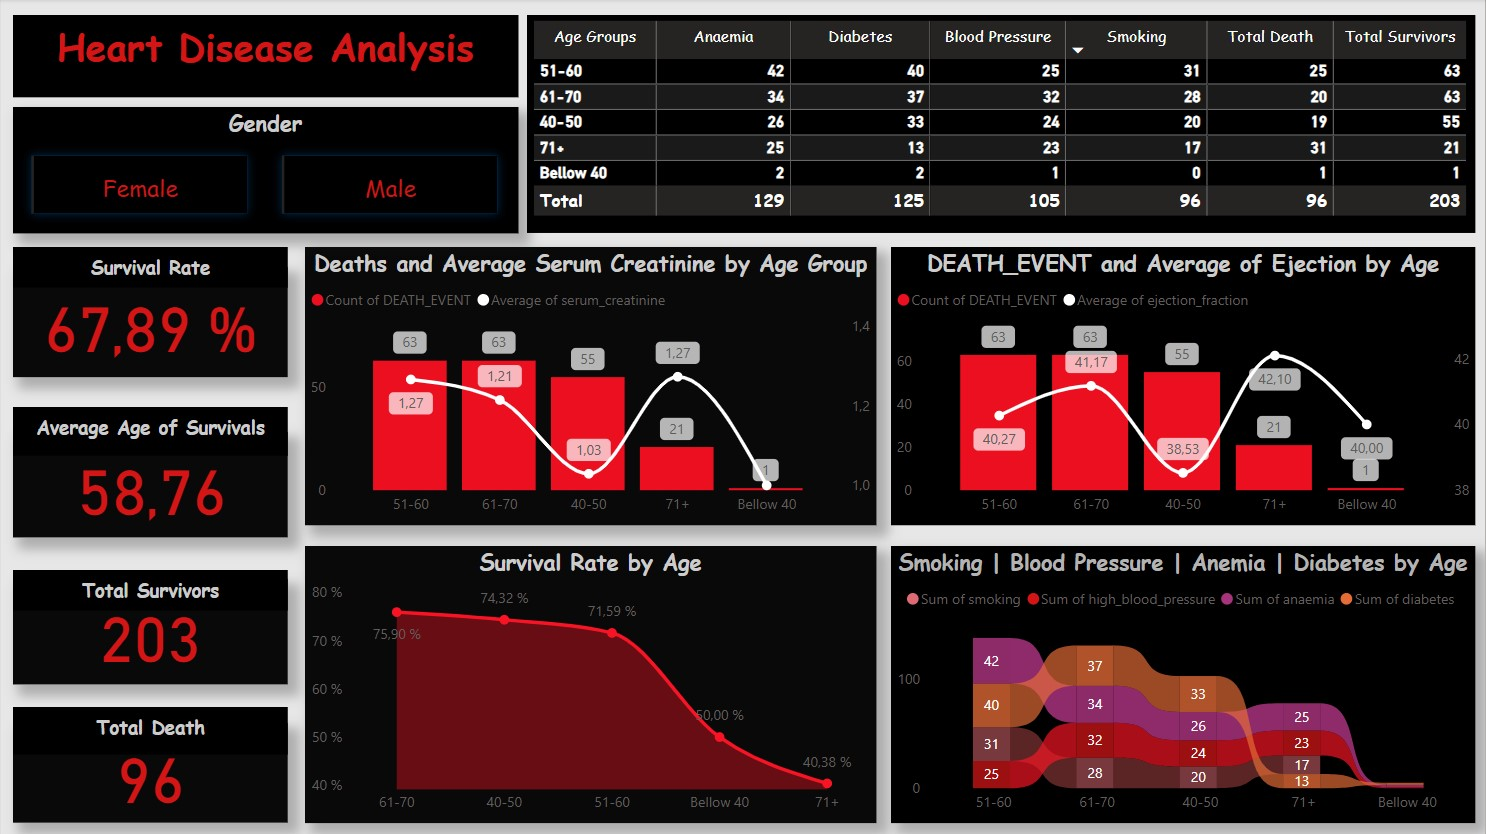

Layout of this report page (visuals, bound fields, positions):
{"tool":"powerbi","page":{"name":"Page 1","canvas":[1280,720],"ordinal":0},"visuals":[{"type":"textbox","box":[10.4,13.8,435.6,70.7],"z":0},{"type":"card","fields":{"Values":["heart_Disease_clinical_records_.Survival_Rate"]},"box":[10.4,231.2,237.2,94.9],"z":1000},{"type":"card","fields":{"Values":["heart_Disease_clinical_records_.AVG_Age_Survival"]},"box":[10.4,373.5,237.2,90.6],"z":2000},{"type":"card","fields":{"Values":["heart_Disease_clinical_records_.Total_survial"]},"box":[10.4,500.3,237.2,91.4],"z":3000},{"type":"card","fields":{"Values":["heart_Disease_clinical_records_.Total_death"]},"box":[10.4,624.5,237.2,86.3],"z":4000},{"type":"lineClusteredColumnComboChart","title":"Deaths and Average Serum Creatinine by Age Group","fields":{"Category":["heart_Disease_clinical_records_.Age_Group"],"Y":["CountNonNull(heart_Disease_clinical_records_.DEATH_EVENT)"],"Y2":["Avg(heart_Disease_clinical_records_.serum_creatinine)"]},"box":[262.2,213.9,492.5,239.8],"z":5000},{"type":"lineClusteredColumnComboChart","title":"DEATH_EVENT and Average of Ejection by Age","fields":{"Category":["heart_Disease_clinical_records_.Age_Group"],"Y":["CountNonNull(heart_Disease_clinical_records_.DEATH_EVENT)"],"Y2":["Avg(heart_Disease_clinical_records_.ejection_fraction)"]},"box":[767.7,213.9,503.7,239.8],"z":6000},{"type":"lineChart","title":"Survival Rate by Age","fields":{"Category":["heart_Disease_clinical_records_.Age_Group"],"Y":["heart_Disease_clinical_records_.Survival_Rate"]},"box":[262.2,471.8,492.5,238.9],"z":7000},{"type":"ribbonChart","title":"Smoking | Blood Pressure | Anemia | Diabetes by Age","fields":{"Category":["heart_Disease_clinical_records_.Age_Group"],"Y":["Sum(heart_Disease_clinical_records_.smoking)","Sum(heart_Disease_clinical_records_.high_blood_pressure)","Sum(heart_Disease_clinical_records_.anaemia)","Sum(heart_Disease_clinical_records_.diabetes)"]},"box":[767.7,471.8,503.7,238.9],"z":8000},{"type":"advancedSlicerVisual","fields":{"Values":["heart_Disease_clinical_records_.Gender"]},"box":[10.4,93.2,435.6,108.7],"z":9000},{"type":"tableEx","fields":{"Values":["heart_Disease_clinical_records_.Age_Group","Sum(heart_Disease_clinical_records_.anaemia)","Sum(heart_Disease_clinical_records_.diabetes)","Sum(heart_Disease_clinical_records_.high_blood_pressure)","Sum(heart_Disease_clinical_records_.smoking)","heart_Disease_clinical_records_.Total_death","heart_Disease_clinical_records_.Total_survial"]},"box":[453.7,13.8,817.7,188],"z":10000},{"type":"textbox","box":[10.4,213.9,237.2,34.5],"z":11000},{"type":"textbox","box":[10.4,351.9,237.2,42.3],"z":12000},{"type":"textbox","box":[10.4,492.5,237.2,35.4],"z":13000},{"type":"textbox","box":[10.4,610.7,237.2,40.5],"z":14000}]}

Visuals, with their boxes in screenshot pixels (x1, y1, x2, y2), scaled from the page's 1280x720 canvas onto the 1486x834 screenshot:
textbox: 12:16:518:98
card - heart_Disease_clinical_records_.Survival_Rate: 12:268:287:378
card - heart_Disease_clinical_records_.AVG_Age_Survival: 12:433:287:538
card - heart_Disease_clinical_records_.Total_survial: 12:580:287:685
card - heart_Disease_clinical_records_.Total_death: 12:723:287:823
"Deaths and Average Serum Creatinine by Age Group" lineClusteredColumnComboChart: 304:248:876:526
"DEATH_EVENT and Average of Ejection by Age" lineClusteredColumnComboChart: 891:248:1476:526
"Survival Rate by Age" lineChart: 304:547:876:823
"Smoking | Blood Pressure | Anemia | Diabetes by Age" ribbonChart: 891:547:1476:823
advancedSlicerVisual - heart_Disease_clinical_records_.Gender: 12:108:518:234
tableEx - heart_Disease_clinical_records_.Age_Group x Sum(heart_Disease_clinical_records_.anaemia): 527:16:1476:234
textbox: 12:248:287:288
textbox: 12:408:287:457
textbox: 12:570:287:611
textbox: 12:707:287:754
